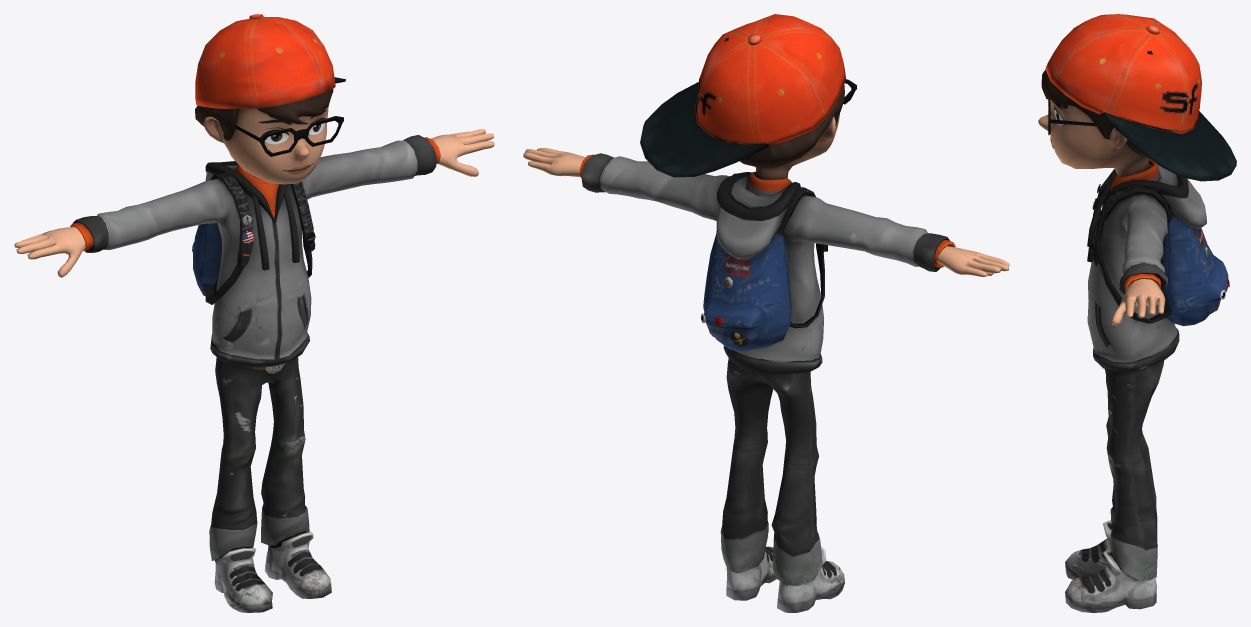
Rendered from cartoon_boy_character.glb.
3 renders of one model, left to right at view 1: azimuth 30°, elevation 25°; view 2: azimuth 150°, elevation 25°; view 3: azimuth 270°, elevation 25°, orthographic.
Parts seen in each view (by area): view 1: Body (BlendTheCube.com); view 2: Body (BlendTheCube.com); view 3: Body (BlendTheCube.com).
Part boxes in pixels (left/top/right/bottom): Body (BlendTheCube.com): left=14, top=14, right=494, bottom=612; Body (BlendTheCube.com): left=523, top=14, right=1009, bottom=612; Body (BlendTheCube.com): left=1038, top=14, right=1236, bottom=612.
Bounding box in the file's own units: 1.11 × 1.25 × 0.3962.
2 materials, 2 textured.
